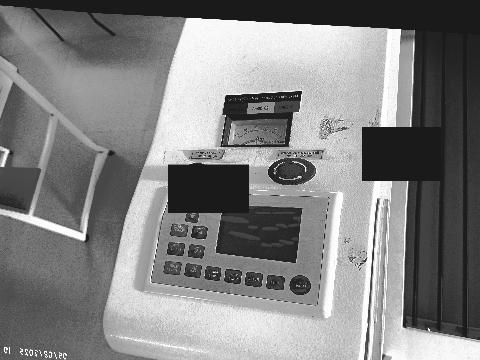Amp_Meter: (222, 118, 289, 146)
Display: (215, 205, 302, 263)
Down_button: (185, 213, 199, 223)
Emergency_Stop: (268, 158, 316, 185)
Enter_button: (170, 224, 188, 237)
Esc_button: (191, 226, 208, 239)
File_button: (184, 263, 202, 278)
Frame_button: (167, 242, 185, 256)
Max-Power_button: (204, 266, 221, 281)
Min-Power_button: (224, 269, 242, 284)
Origin_button: (188, 244, 205, 258)
Power_switch: (190, 163, 204, 165)
Pulse_button: (266, 275, 285, 290)
Reset_button: (290, 275, 311, 295)
Speed_button: (245, 272, 263, 287)
Start-Pause_button: (164, 261, 181, 275)
